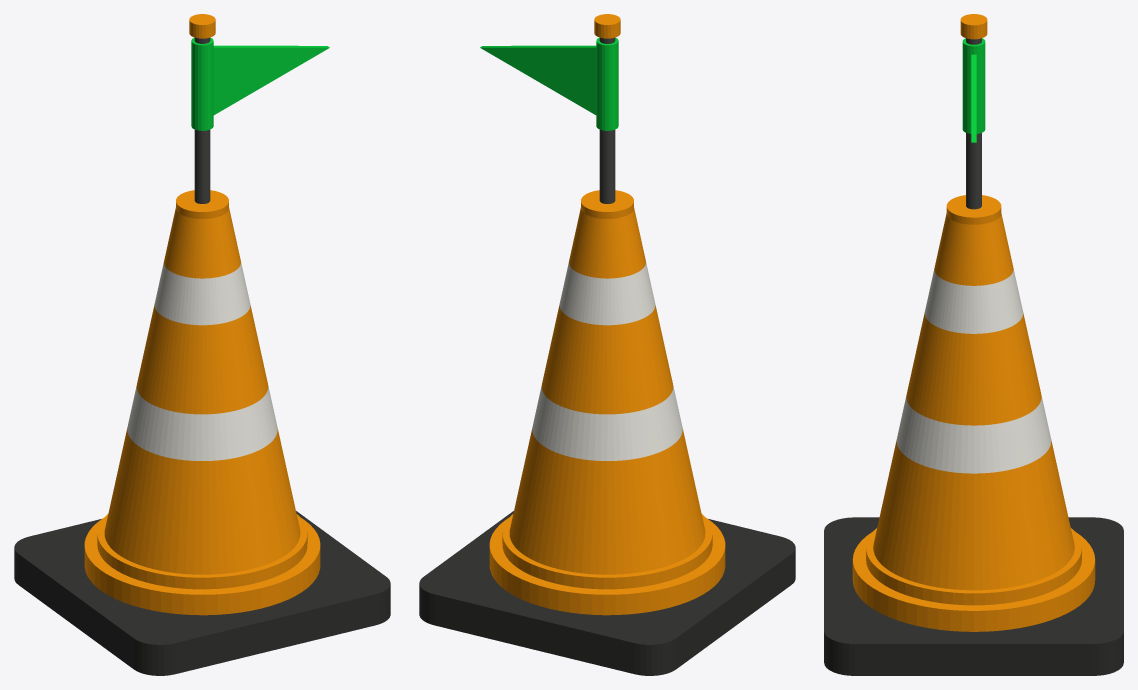
File: trail_marker_cone_green_flag_Rev.fbx
The picture shows the model from 3 angles, left to right: view 1: azimuth 30°, elevation 25°; view 2: azimuth 150°, elevation 25°; view 3: azimuth 270°, elevation 25°; orthographic projection. The views are drawn at different scales.
Parts seen in each view (by area): view 1: trail_marker_cone_green_flag; view 2: trail_marker_cone_green_flag; view 3: trail_marker_cone_green_flag.
Boxes of the visible parts, x1,y1,x2,y2 form: trail_marker_cone_green_flag: (14, 14, 390, 675); trail_marker_cone_green_flag: (419, 14, 795, 675); trail_marker_cone_green_flag: (824, 14, 1123, 675).
Bounding box in the file's own units: 68 × 148 × 68.
